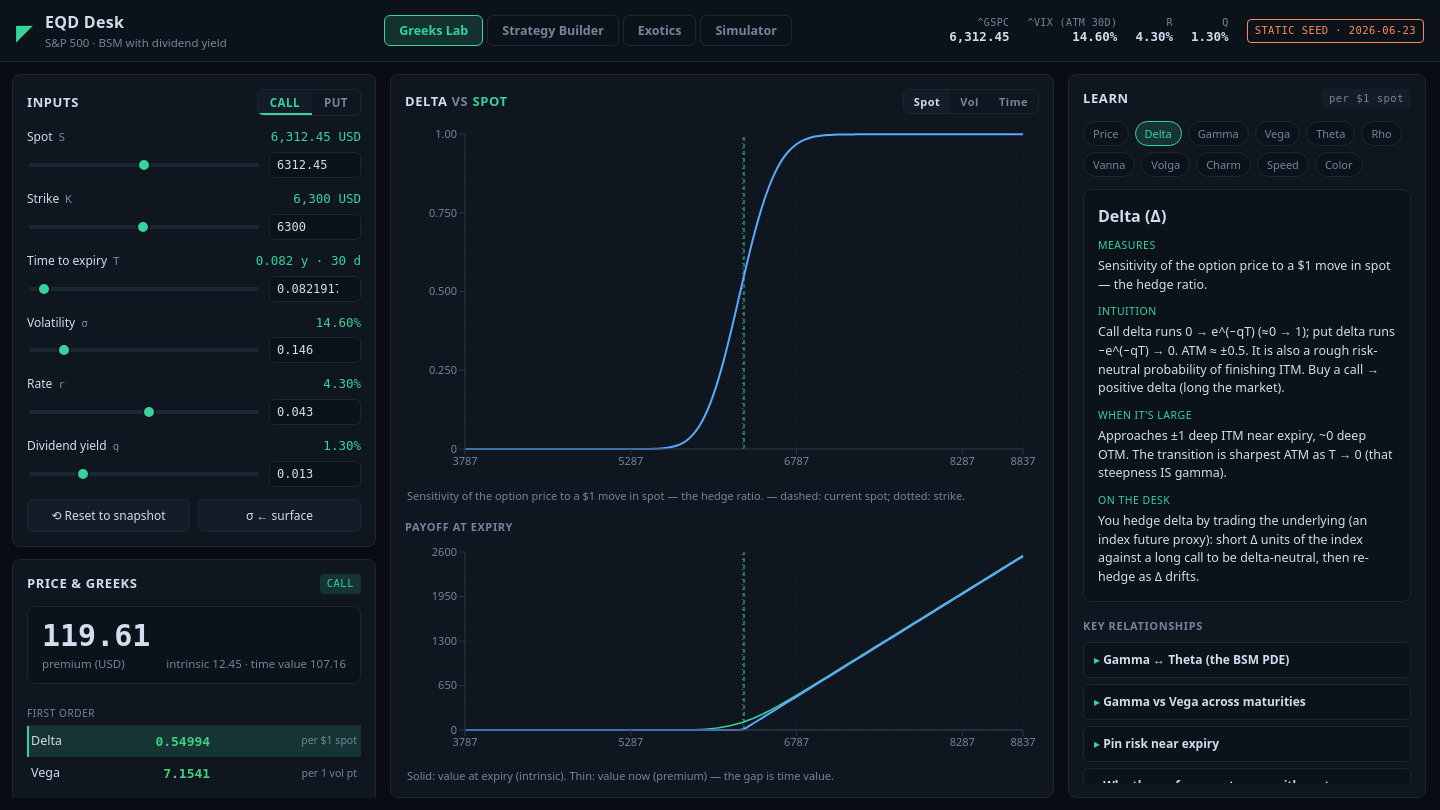
Test: App (Greeks Lab) smoke test › switches to Exotics and between sub-instruments
The image size is (1440, 810).
Click the button "Exotics" at (660, 31), box [623,15,696,46]
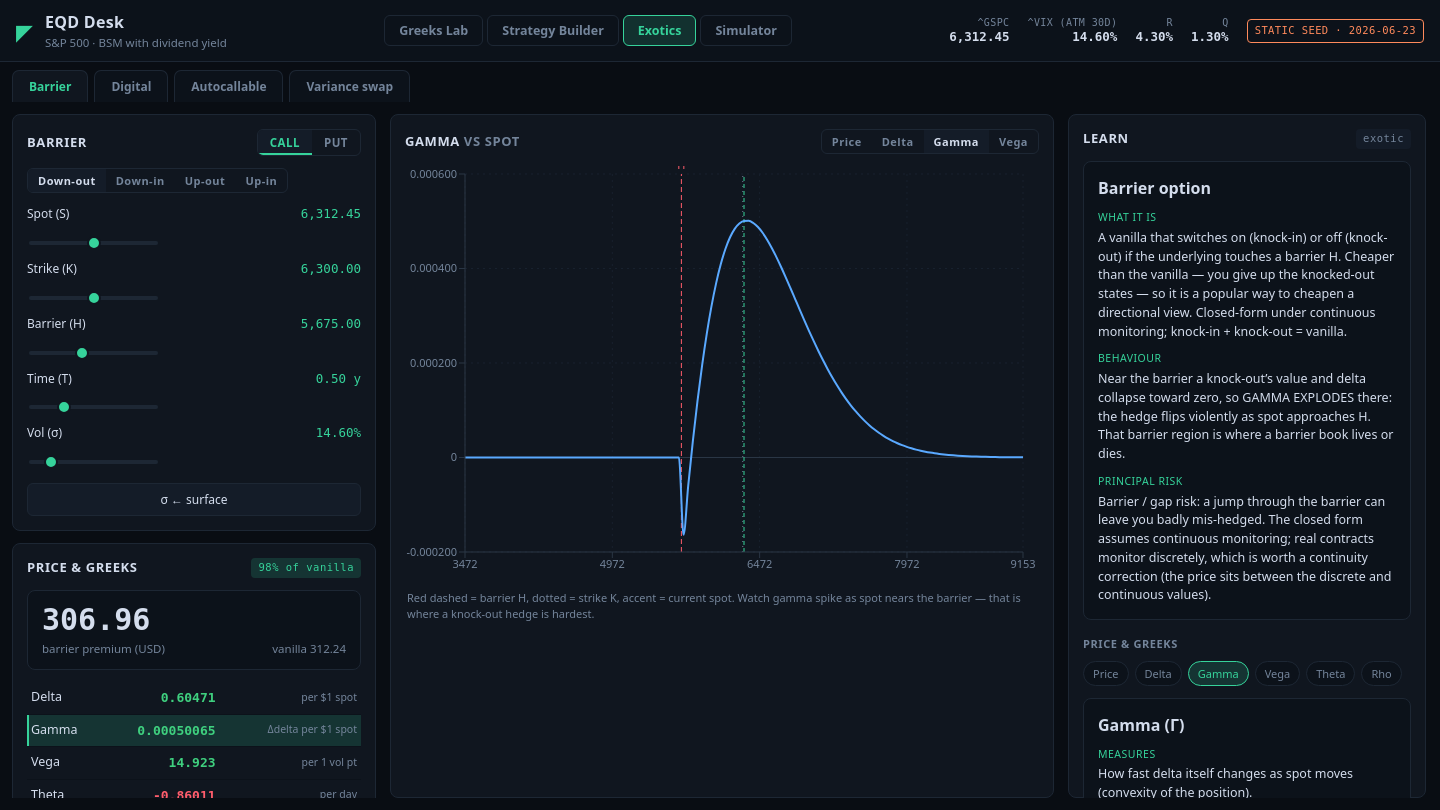
Result: the heading "Barrier" is shown at [27,133,87,152]
switch to the variance swap
Click the button "Variance swap" at (350, 86), box [290,70,410,102]
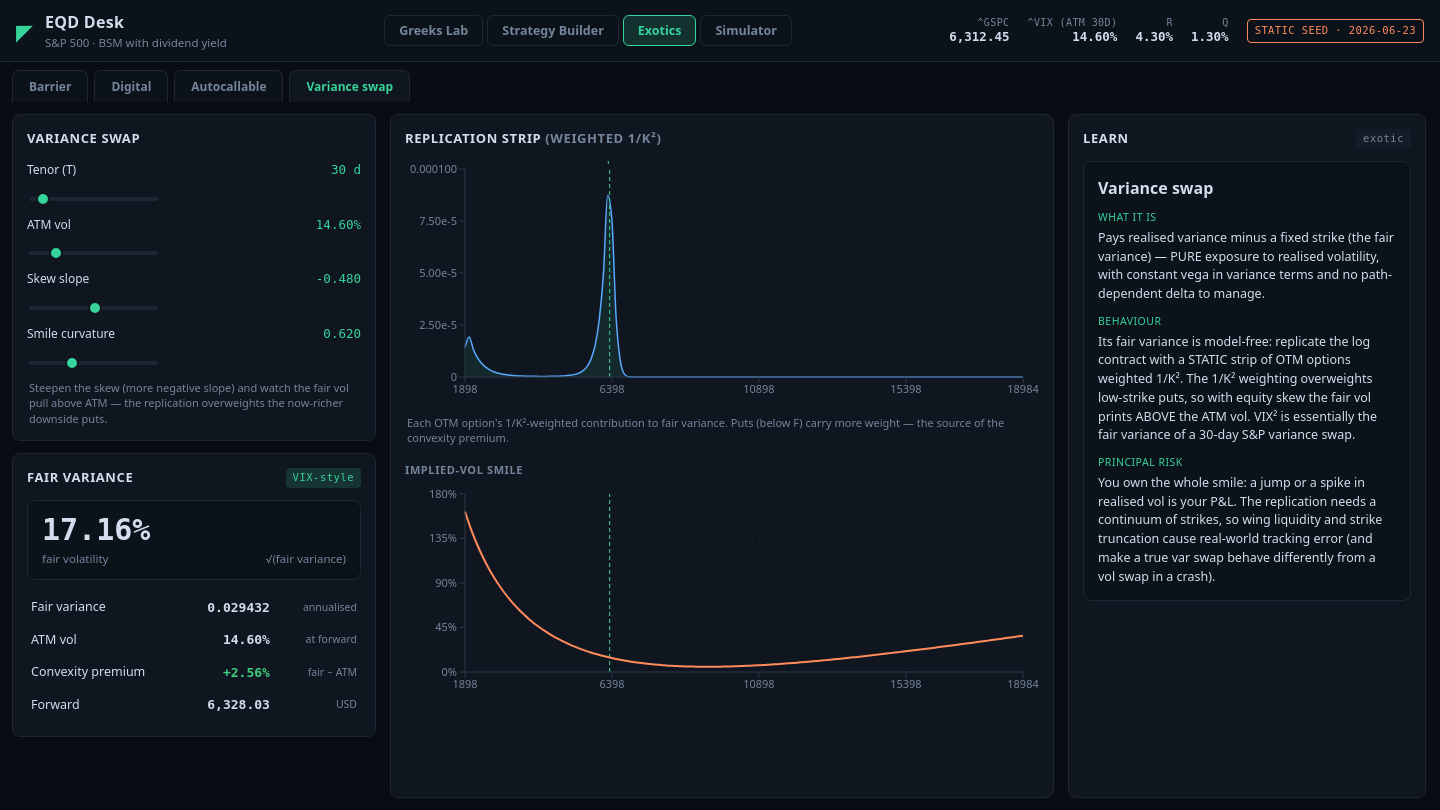
Result: the heading "Fair variance" is shown at [27,468,133,488]
and to the digital
Click the button "Digital" at (131, 86), box [94,70,168,102]
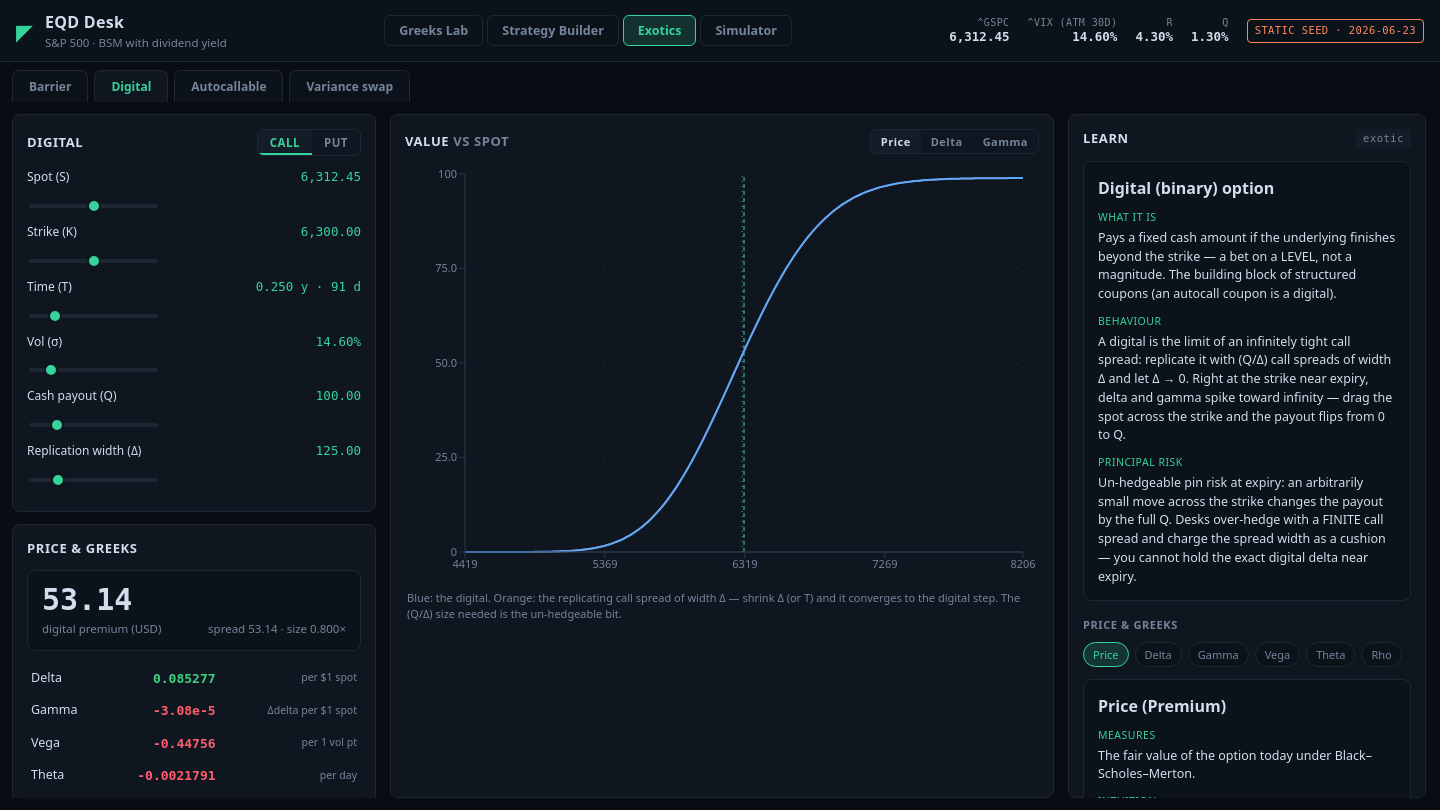
Result: the heading "Digital" is shown at [27,133,83,152]
